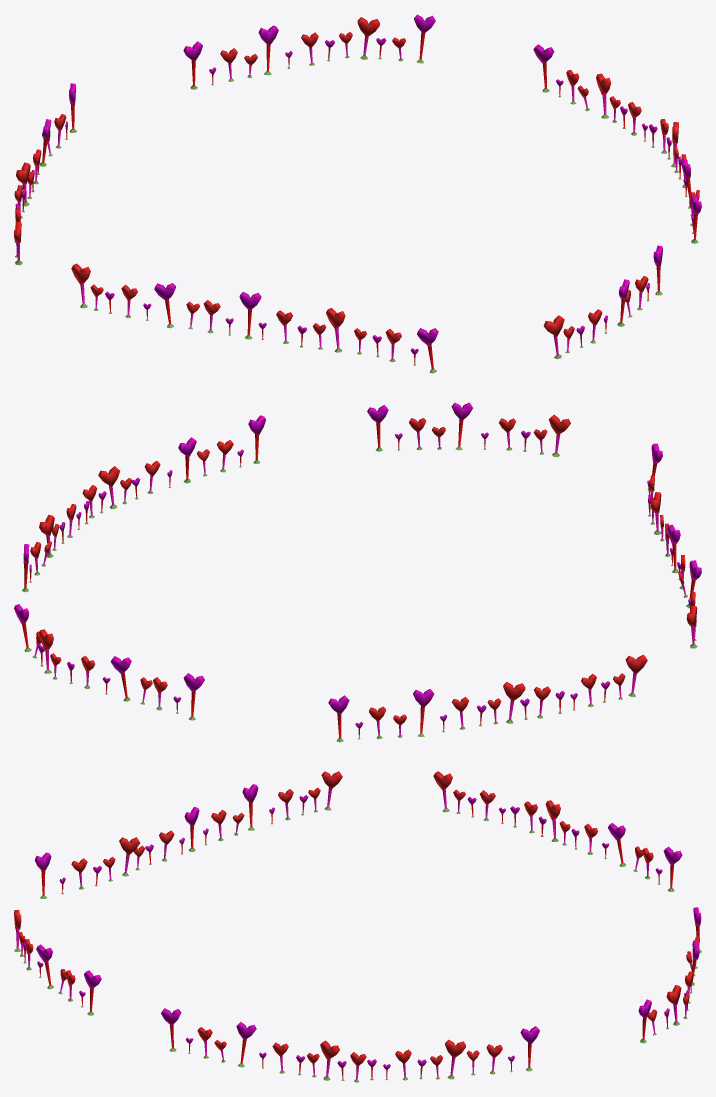
The model's file is CH_FO_Iron_Fence_Cute.FBX.
3 renders of one model, top to bottom at view 1: azimuth 30°, elevation 25°; view 2: azimuth 150°, elevation 25°; view 3: azimuth 270°, elevation 25°, orthographic. The views are drawn at different scales.
Visible parts, largest first — view 1: CH_FO_Iron_Fence_Cute; view 2: CH_FO_Iron_Fence_Cute; view 3: CH_FO_Iron_Fence_Cute.
Boxes of the visible parts, x1=… form: CH_FO_Iron_Fence_Cute: x1=14, y1=14, x2=701, y2=373; CH_FO_Iron_Fence_Cute: x1=14, y1=402, x2=701, y2=742; CH_FO_Iron_Fence_Cute: x1=14, y1=771, x2=701, y2=1082.
Size of the model in its own units: 3023 by 230 by 3170.
